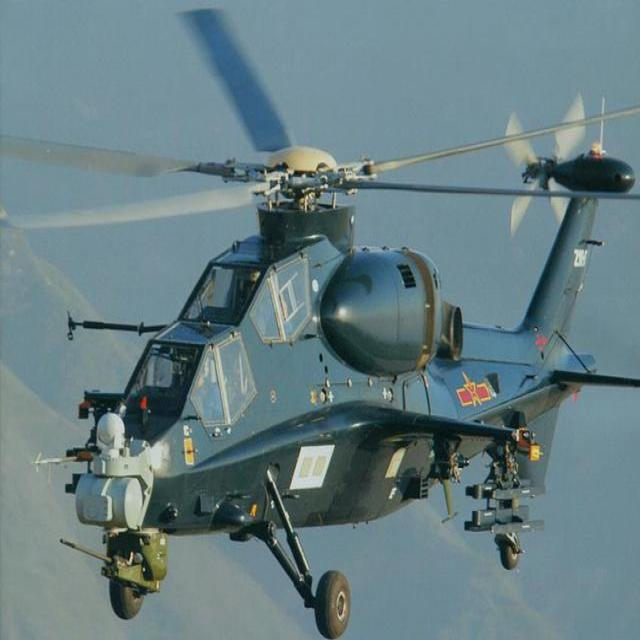MIL_HELO: (23, 29, 620, 640)
